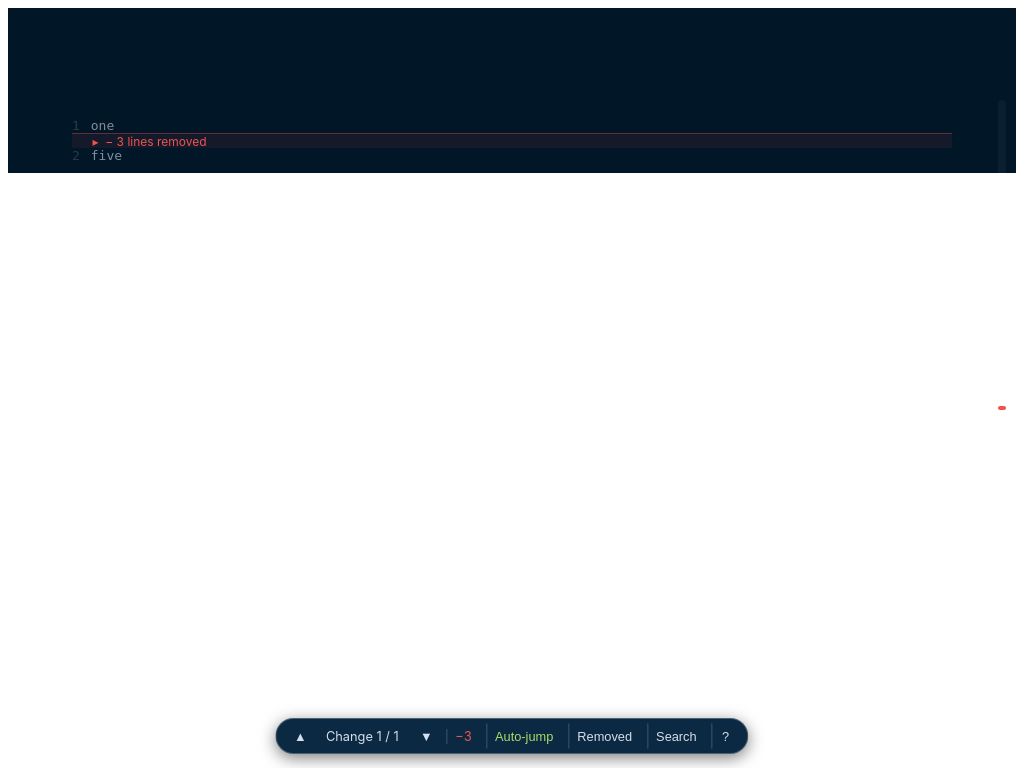
removed lines › clicking the header shows the removed lines, clicking again hides them
Later steps or results of the test are not shown.
Click the button with class "removed-toggle".
click(148, 142)  # box [90,134,207,149]
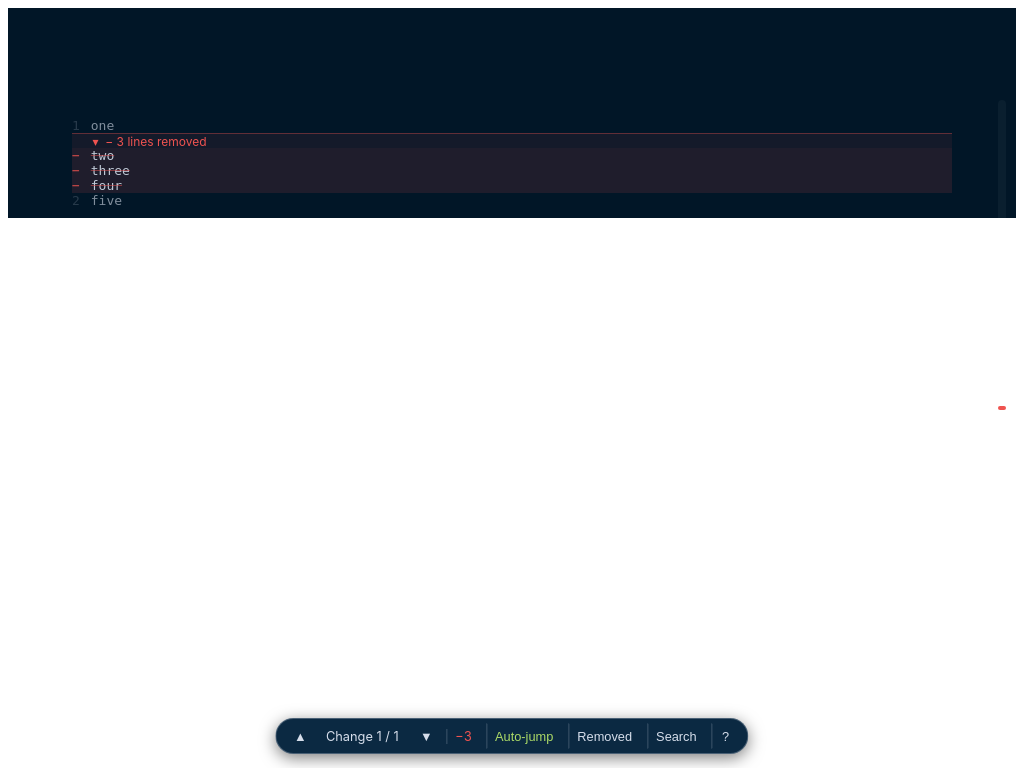
Result: the button with class "removed-toggle" is expanded at [90,134,207,148]
